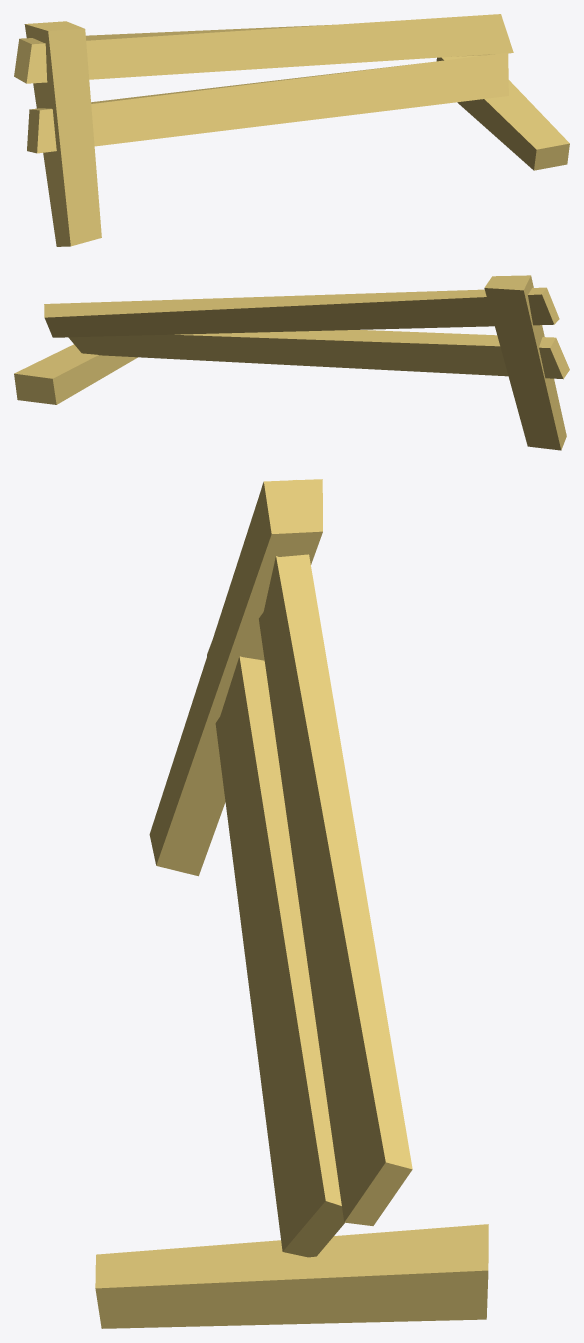
The model's file is Fence2.fbx.
3 views of the same model, one above another, from view 1: azimuth 30°, elevation 25°; view 2: azimuth 150°, elevation 25°; view 3: azimuth 270°, elevation 25° (orthographic). The views are drawn at different scales.
Visible parts, largest first — view 1: Fence.2; view 2: Fence.2; view 3: Fence.2.
Boxes of the visible parts, x1,y1,x2,y2 form: Fence.2: [14, 14, 569, 246]; Fence.2: [14, 275, 569, 450]; Fence.2: [95, 479, 488, 1328].
Size of the model in its own units: 1550 by 622 by 540.
